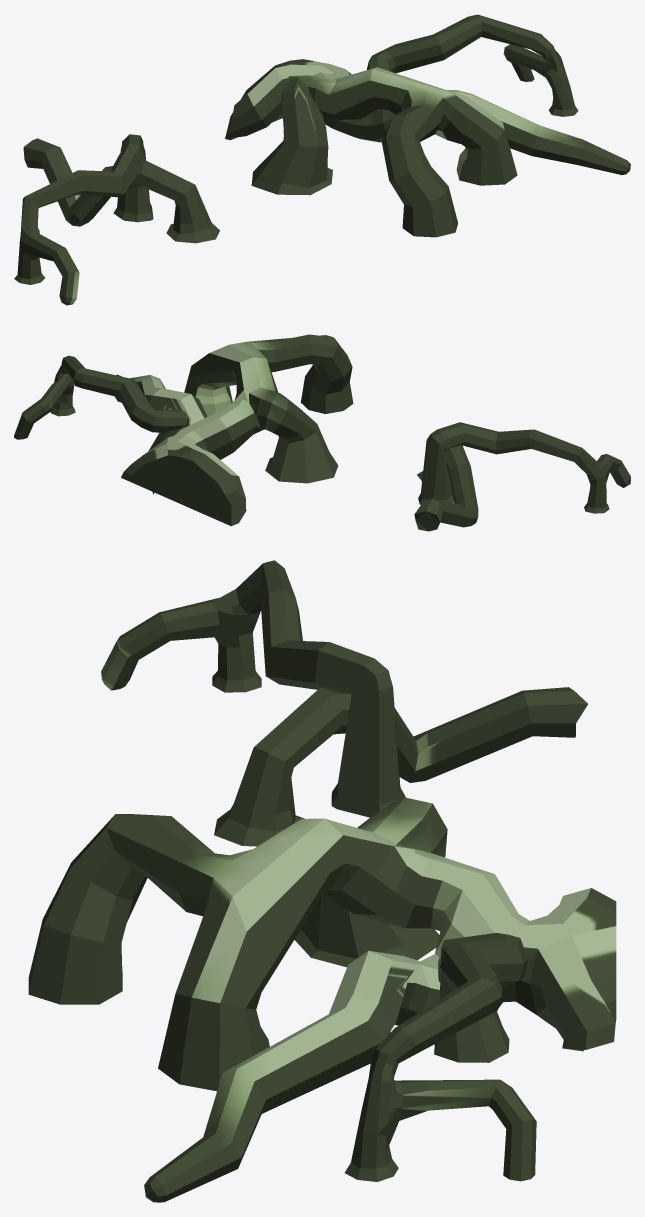
Rendered from EA_Swamp_Root_03a.glb.
3 views of the same model, one above another, from view 1: azimuth 30°, elevation 25°; view 2: azimuth 150°, elevation 25°; view 3: azimuth 270°, elevation 25° (orthographic). The views are drawn at different scales.
Parts seen in each view (by area): view 1: EA_Swamp_Root_03a; view 2: EA_Swamp_Root_03a; view 3: EA_Swamp_Root_03a.
Part boxes in pixels (x1,y1,x2,y2): EA_Swamp_Root_03a: (14,14,630,305); EA_Swamp_Root_03a: (14,334,630,531); EA_Swamp_Root_03a: (28,560,616,1202).
Size of the model in its own units: 4.86 by 0.9379 by 2.36.
Materials: 1 (1 with a texture image).
